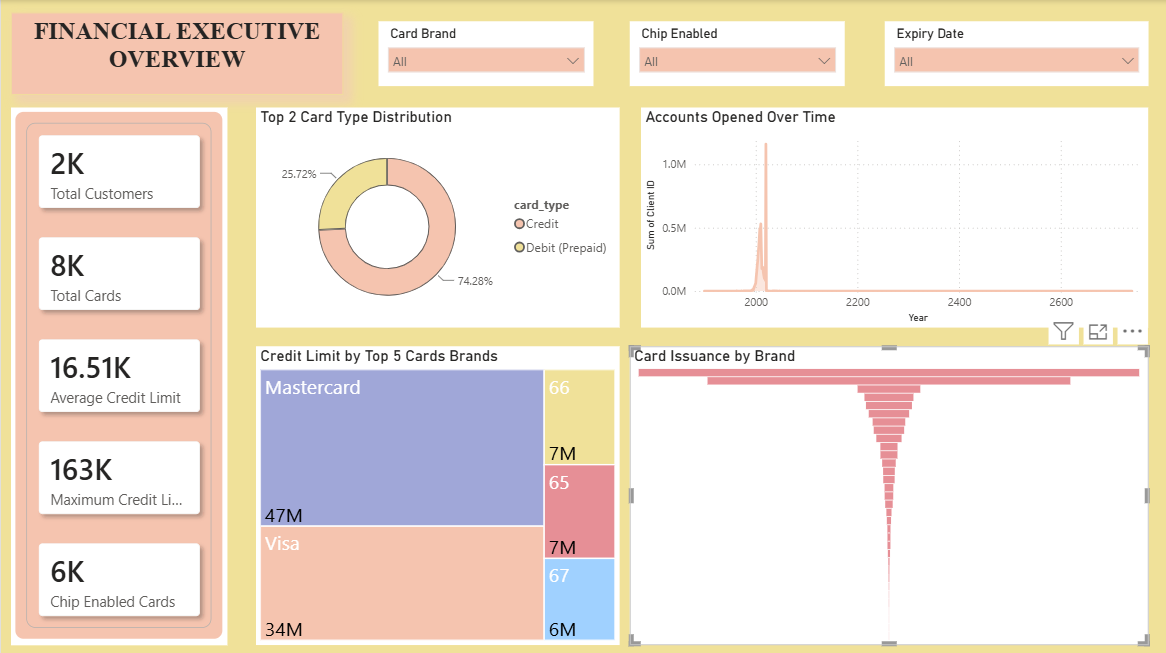

What the dashboard file says about the page in this screenshot:
{"tool":"powerbi","page":{"name":"Page 1","canvas":[1280,720],"ordinal":0},"visuals":[{"type":"textbox","box":[11,13.7,365,90.6],"z":0},{"type":"cardVisual","fields":{"Data":["All Measures.Total Customers","All Measures.Total Cards","All Measures.Average Credit Limit","All Measures.Maximum Credit Limit","All Measures.Chip Enabled Cards"]},"box":[11,118,237.4,590.1],"z":1},{"type":"slicer","fields":{"Values":["Financial dataset.card_brand"]},"box":[414.4,23.3,236,71.4],"z":2},{"type":"slicer","fields":{"Values":["Financial dataset.has_chip"]},"box":[690.2,23.3,236,71.4],"z":3},{"type":"slicer","fields":{"Values":["Financial dataset.expires"]},"box":[970.2,23.3,289.5,71.4],"z":4},{"type":"donutChart","title":"Top 2 Card Type Distribution","fields":{"Category":["Financial dataset.card_type"],"Y":["Sum(Financial dataset.card_number)"]},"box":[279.9,118,399.3,241.5],"z":5},{"type":"lineChart","title":"Accounts Opened Over Time","fields":{"Category":["Financial dataset.acct_open_date.Variation.Date Hierarchy.Year","Financial dataset.acct_open_date.Variation.Date Hierarchy.Month"],"Y":["Sum(Financial dataset.client_id)"]},"box":[702.6,118,557.1,241.5],"z":6},{"type":"treemap","title":"Credit Limit by Top 5 Cards Brands","fields":{"Values":["Sum(Financial dataset.credit_limit)"],"Group":["Financial dataset.card_brand"]},"box":[279.9,380.1,399.3,328],"z":7},{"type":"funnel","title":"Card Issuance by Brand","fields":{"Category":["Financial dataset.card_brand"],"Y":["CountNonNull(Financial dataset.card_number)"]},"box":[690.2,380.1,569.5,328],"z":8}]}

Visuals, with their boxes in screenshot pixels (x1, y1, x2, y2), scaled from the page's 1280x720 canvas onto the 1166x653 screenshot:
textbox: [x1=10, y1=12, x2=343, y2=95]
cardVisual - All Measures.Total Customers x All Measures.Total Cards: [x1=10, y1=107, x2=226, y2=642]
slicer - Financial dataset.card_brand: [x1=377, y1=21, x2=592, y2=86]
slicer - Financial dataset.has_chip: [x1=629, y1=21, x2=844, y2=86]
slicer - Financial dataset.expires: [x1=884, y1=21, x2=1148, y2=86]
"Top 2 Card Type Distribution" donutChart: [x1=255, y1=107, x2=619, y2=326]
"Accounts Opened Over Time" lineChart: [x1=640, y1=107, x2=1148, y2=326]
"Credit Limit by Top 5 Cards Brands" treemap: [x1=255, y1=345, x2=619, y2=642]
"Card Issuance by Brand" funnel: [x1=629, y1=345, x2=1148, y2=642]
